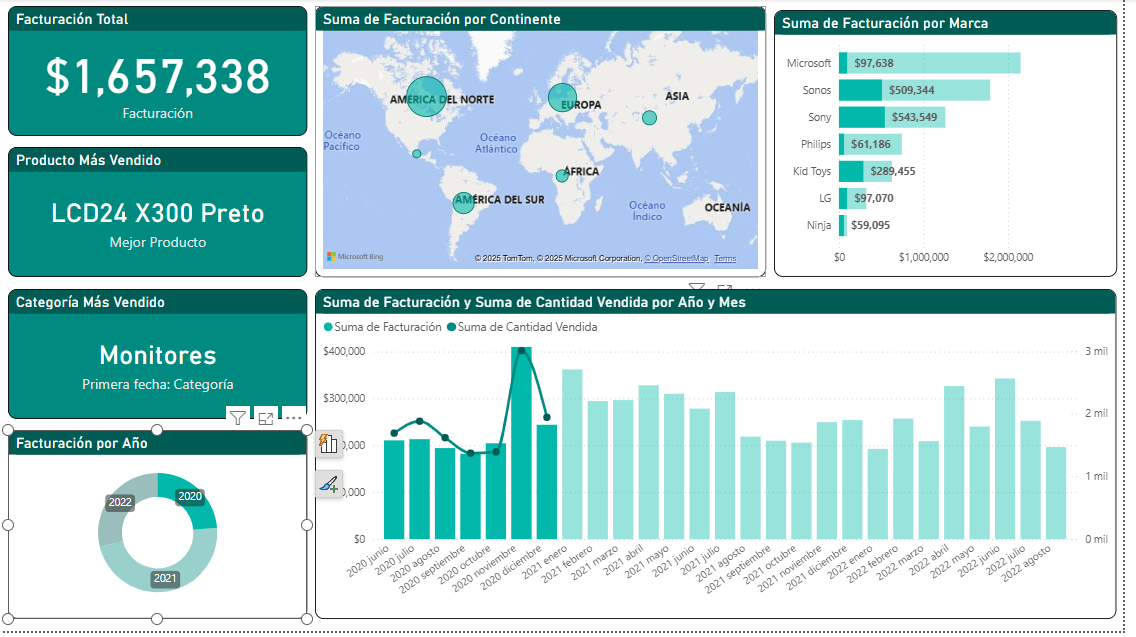

What the dashboard file says about the page in this screenshot:
{"tool":"powerbi","page":{"name":"Página 1","canvas":[1280,720],"ordinal":0},"visuals":[{"type":"card","title":"Facturación Total","fields":{"Values":["Sum(Ventas Tech.Facturación)"]},"box":[8.8,7.5,341.2,147.5],"z":0},{"type":"card","title":"Categoría Más Vendido","fields":{"Values":["Min(Ventas Tech.Categoría)"]},"box":[8.8,330,341.2,147.5],"z":1000},{"type":"map","fields":{"Category":["Ventas Tech.Continente"],"Size":["Sum(Ventas Tech.Facturación)"]},"box":[358.8,7.5,513.8,308.8],"z":2000},{"type":"lineStackedColumnComboChart","fields":{"Category":["Ventas Tech.Fecha De Venta.Variación.Jerarquía de fechas.Año","Ventas Tech.Fecha De Venta.Variación.Jerarquía de fechas.Mes"],"Y":["Sum(Ventas Tech.Facturación)"],"Y2":["Sum(Ventas Tech.Cantidad Vendida)"]},"box":[358.8,330,912.5,376.2],"z":3000},{"type":"clusteredBarChart","fields":{"Category":["Ventas Tech.Marca"],"Y":["Sum(Ventas Tech.Facturación)"]},"box":[881.2,12.5,391.2,303.8],"z":4000},{"type":"card","title":"Producto Más Vendido","fields":{"Values":["Min(Ventas Tech.Producto)"]},"box":[8.8,168.8,341.2,147.5],"z":5000},{"type":"donutChart","title":"Facturación por Año","fields":{"Y":["Sum(Ventas Tech.Facturación)"],"Category":["Ventas Tech.Fecha De Venta.Variación.Jerarquía de fechas.Año"]},"box":[8.8,491.2,341.2,215],"z":6000}]}

Visuals, with their boxes in screenshot pixels (x1, y1, x2, y2), scaled from the page's 1280x720 canvas onto the 1136x637 screenshot:
"Facturación Total" card: bbox=(8, 7, 311, 137)
"Categoría Más Vendido" card: bbox=(8, 292, 311, 422)
map - Ventas Tech.Continente x Sum(Ventas Tech.Facturación): bbox=(318, 7, 774, 280)
lineStackedColumnComboChart - Ventas Tech.Fecha De Venta.Variación.Jerarquía de fechas.Año x Ventas Tech.Fecha De Venta.Variación.Jerarquía de fechas.Mes: bbox=(318, 292, 1128, 625)
clusteredBarChart - Ventas Tech.Marca x Sum(Ventas Tech.Facturación): bbox=(782, 11, 1129, 280)
"Producto Más Vendido" card: bbox=(8, 149, 311, 280)
"Facturación por Año" donutChart: bbox=(8, 435, 311, 625)
